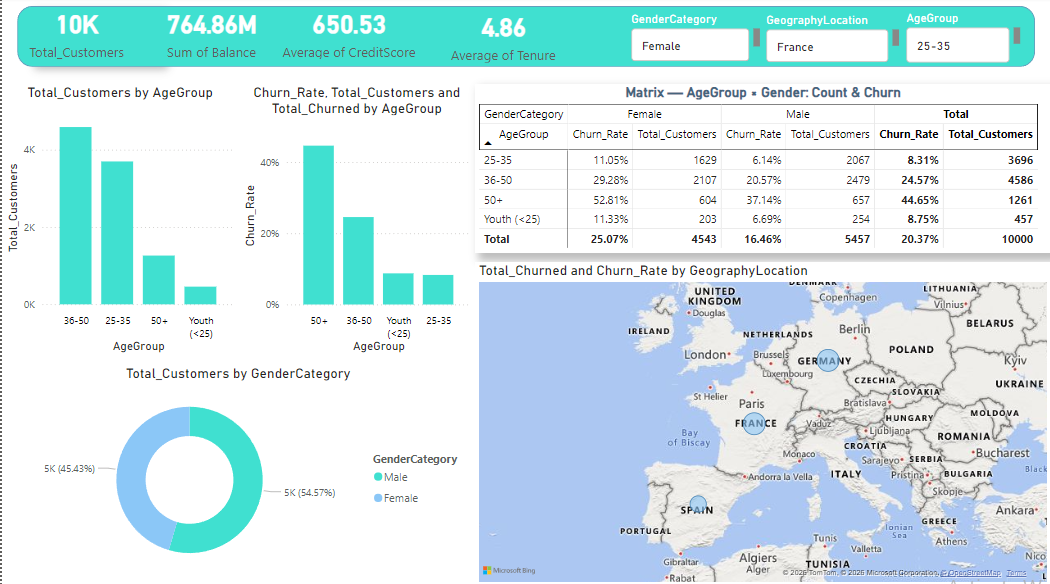

This screenshot's page, from the dashboard's own definition file:
{"tool":"powerbi","page":{"name":"Customer Demographics","canvas":[1280,720],"ordinal":1},"visuals":[{"type":"columnChart","fields":{"Category":["analytics customer_dim.AgeGroup"],"Y":["Calculation.Total_Customers"]},"box":[0,105.7,288.6,332.9],"z":0},{"type":"clusteredColumnChart","fields":{"Category":["analytics customer_dim.AgeGroup"],"Y":["Calculation.Churn_Rate"]},"box":[289,106,287.7,333.1],"z":1000},{"type":"donutChart","fields":{"Category":["analytics customer_dim.GenderCategory"],"Y":["Calculation.Total_Customers"]},"box":[0,448.7,576.7,261.5],"z":2000},{"type":"card","fields":{"Values":["Calculation.Total_Customers"]},"box":[35.8,12.4,156.9,66.1],"z":3000},{"type":"pivotTable","title":"Matrix — AgeGroup × Gender: Count & Churn","fields":{"Rows":["analytics customer_dim.AgeGroup"],"Columns":["analytics customer_dim.GenderCategory"],"Values":["Calculation.Churn_Rate","Calculation.Total_Customers"]},"box":[576.7,106,703.3,206.5],"z":4000},{"type":"shape","box":[14.3,11.4,1250,74.3],"z":5000},{"type":"advancedSlicerVisual","fields":{"Values":["analytics customer_dim.GeographyLocation"]},"box":[929,19.3,170.7,60.6],"z":6000},{"type":"advancedSlicerVisual","fields":{"Values":["analytics customer_dim.GenderCategory"]},"box":[763.9,17.9,165.2,60.6],"z":7000},{"type":"advancedSlicerVisual","fields":{"Values":["analytics customer_dim.AgeGroup"]},"box":[1099.7,16.5,147.3,63.3],"z":8000},{"type":"map","fields":{"Category":["analytics customer_dim.GeographyLocation"],"Size":["Calculation.Total_Churned"]},"box":[576.7,323.4,703.3,396.4],"z":9000},{"type":"card","fields":{"Values":["Calculation.Total_Customers"]},"box":[13.8,2.8,155.5,78.5],"z":10000},{"type":"card","fields":{"Values":["Sum(analytics account_fact.Balance)"]},"box":[169.3,8.3,172,67.4],"z":11000},{"type":"card","fields":{"Values":["Avg(analytics account_fact.CreditScore)"]},"box":[331.7,8.3,183.1,67.4],"z":12000},{"type":"card","fields":{"Values":["Avg(analytics account_fact.Tenure)"]},"box":[514.8,11,194.1,68.8],"z":13000}]}

Visuals, with their boxes in screenshot pixels (x1, y1, x2, y2), scaled from the page's 1280x720 canvas onto the 1050x584 screenshot:
columnChart - analytics customer_dim.AgeGroup x Calculation.Total_Customers: (x1=0, y1=86, x2=237, y2=356)
clusteredColumnChart - analytics customer_dim.AgeGroup x Calculation.Churn_Rate: (x1=237, y1=86, x2=473, y2=356)
donutChart - analytics customer_dim.GenderCategory x Calculation.Total_Customers: (x1=0, y1=364, x2=473, y2=576)
card - Calculation.Total_Customers: (x1=29, y1=10, x2=158, y2=64)
"Matrix — AgeGroup × Gender: Count & Churn" pivotTable: (x1=473, y1=86, x2=1049, y2=253)
shape: (x1=12, y1=9, x2=1037, y2=70)
advancedSlicerVisual - analytics customer_dim.GeographyLocation: (x1=762, y1=16, x2=902, y2=65)
advancedSlicerVisual - analytics customer_dim.GenderCategory: (x1=627, y1=15, x2=762, y2=64)
advancedSlicerVisual - analytics customer_dim.AgeGroup: (x1=902, y1=13, x2=1023, y2=65)
map - analytics customer_dim.GeographyLocation x Calculation.Total_Churned: (x1=473, y1=262, x2=1049, y2=583)
card - Calculation.Total_Customers: (x1=11, y1=2, x2=139, y2=66)
card - Sum(analytics account_fact.Balance): (x1=139, y1=7, x2=280, y2=61)
card - Avg(analytics account_fact.CreditScore): (x1=272, y1=7, x2=422, y2=61)
card - Avg(analytics account_fact.Tenure): (x1=422, y1=9, x2=582, y2=65)
